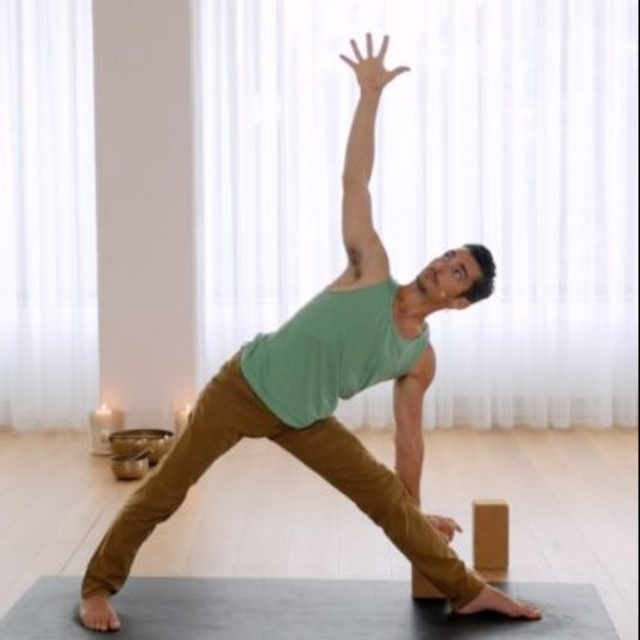Triangle_Pose: (75, 24, 551, 633)
